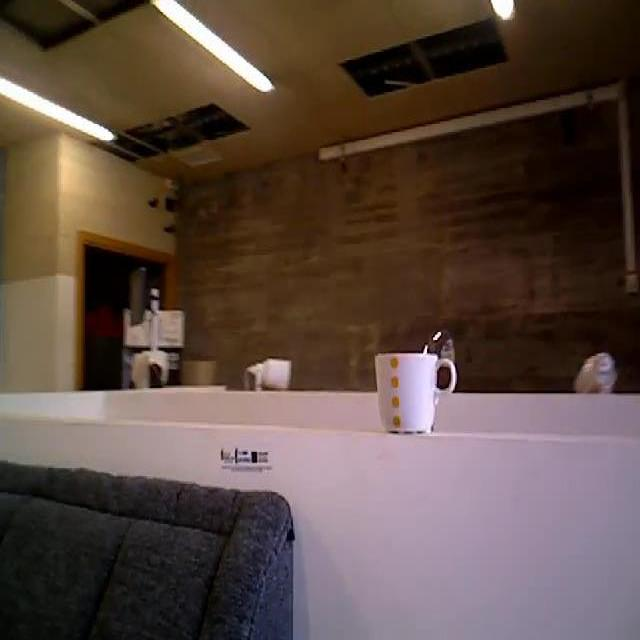cup: (372, 347, 462, 449)
